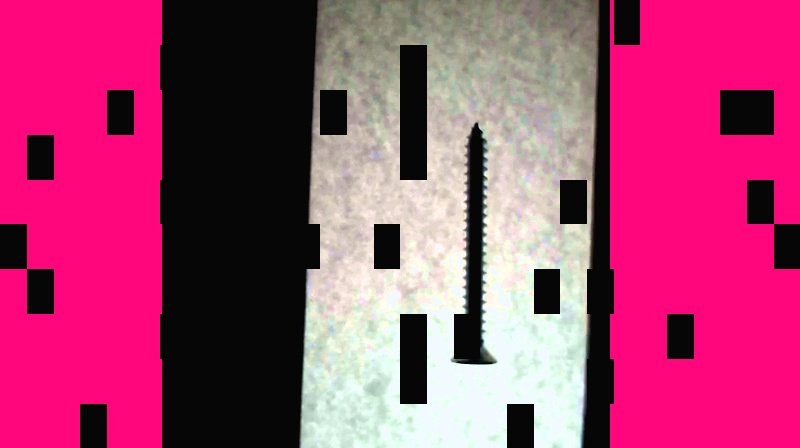S002: (446, 119, 500, 368)
